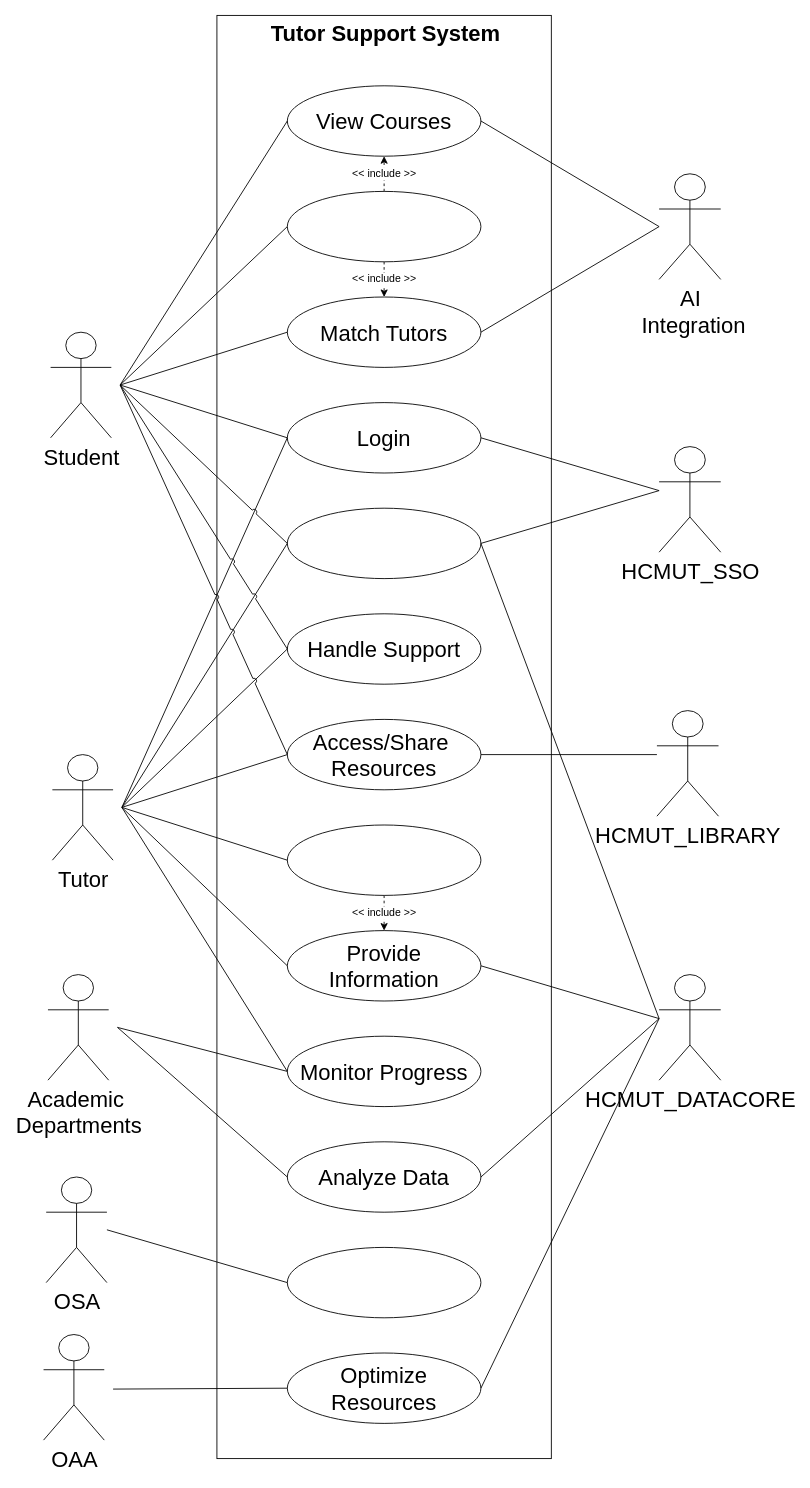
Some shapes in this 810 by 1488 pixel diagram are drawn without their labels. The shapes that lost their labels are listed below. From the top down, each one's centre as x and y in pixels, then its label:
At pixel 383 226: "Join Program".
At pixel 383 543: "Manage Accout".
At pixel 383 859: "Organize Sessions".
At pixel 383 1282: "Manage Merit".
